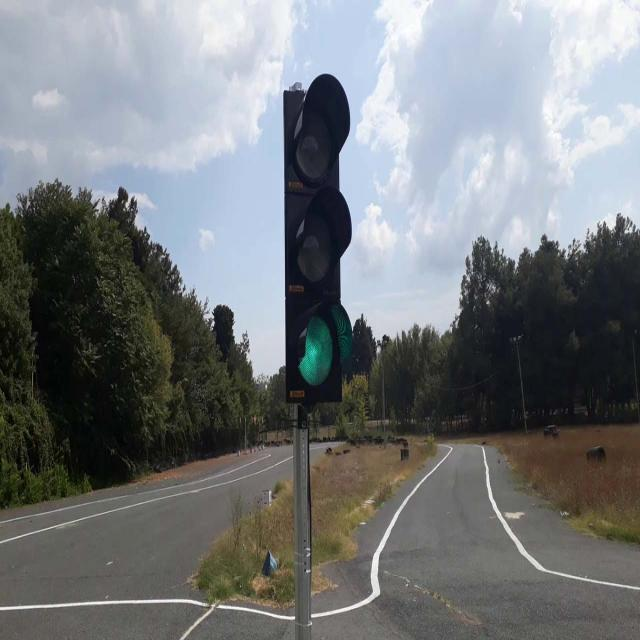yesil: (285, 75, 347, 394)
